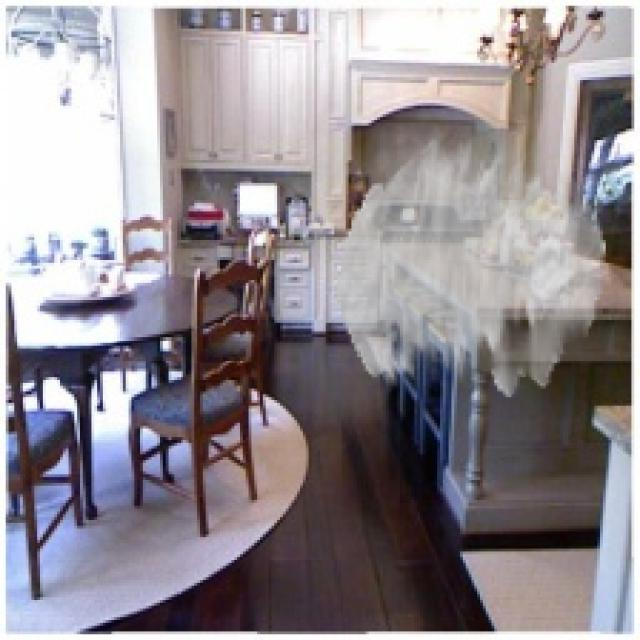smoke: (337, 134, 606, 397)
